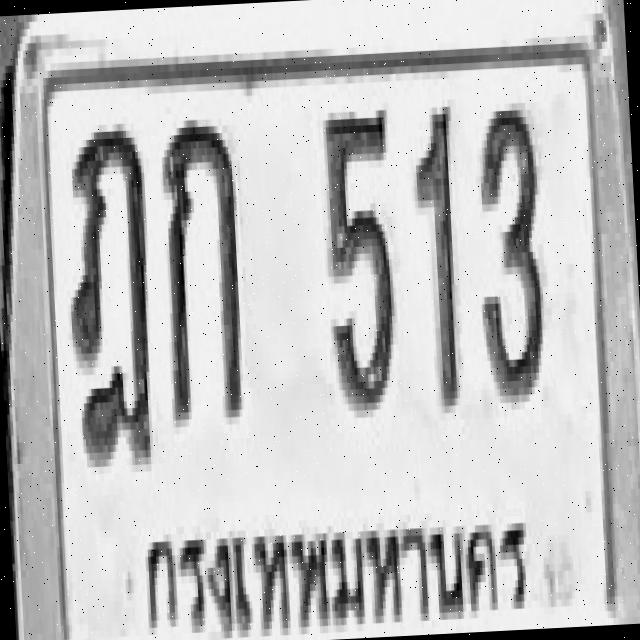1: (411, 102, 466, 410)
10GorGai: (157, 111, 248, 427)
23DorChaDa: (60, 120, 158, 472)
3: (470, 102, 550, 404)
5: (320, 100, 402, 416)
Bangkok: (136, 487, 536, 640)
